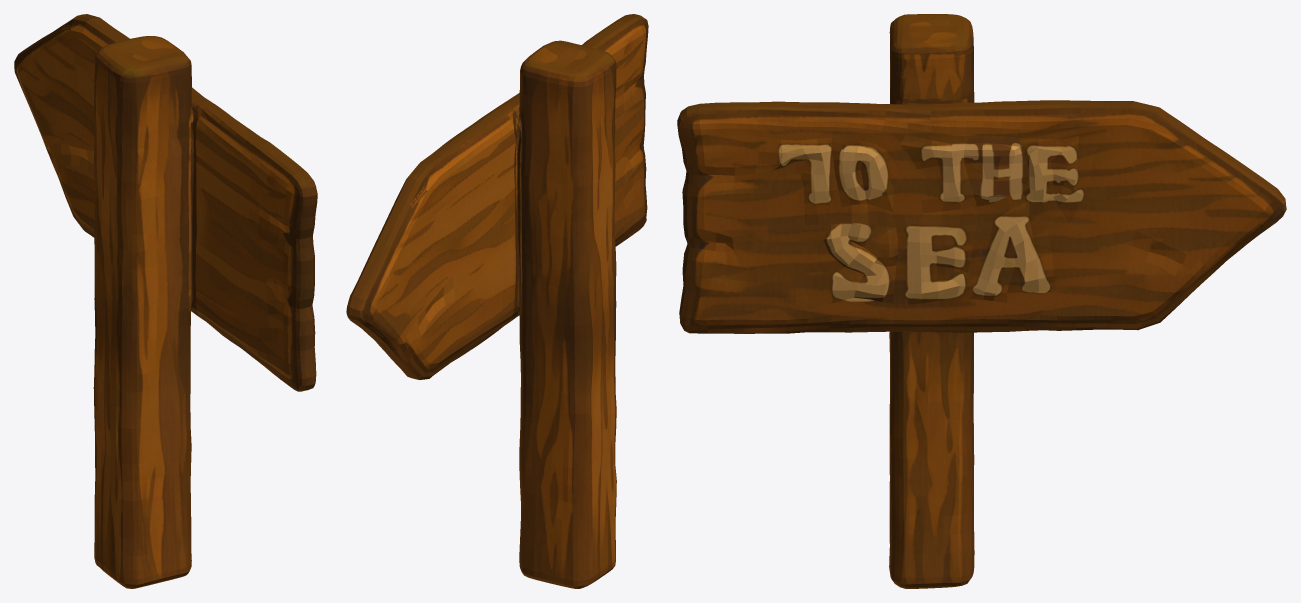
Rendered from TotheSea.fbx.
3 renders of one model, left to right at view 1: azimuth 30°, elevation 25°; view 2: azimuth 150°, elevation 25°; view 3: azimuth 270°, elevation 25°, orthographic. The views are drawn at different scales.
Visible parts, largest first — view 1: tripo_node_2c806181-79c3-4de6-8318-52d7fc3c1f2d; view 2: tripo_node_2c806181-79c3-4de6-8318-52d7fc3c1f2d; view 3: tripo_node_2c806181-79c3-4de6-8318-52d7fc3c1f2d.
Part boxes in pixels (left/top/right/bottom): tripo_node_2c806181-79c3-4de6-8318-52d7fc3c1f2d: left=14, top=14, right=317, bottom=588; tripo_node_2c806181-79c3-4de6-8318-52d7fc3c1f2d: left=346, top=14, right=648, bottom=588; tripo_node_2c806181-79c3-4de6-8318-52d7fc3c1f2d: left=677, top=14, right=1286, bottom=588.
Bounding box in the file's own units: 19.92 × 98.89 × 99.84.
1 material, 1 textured.
